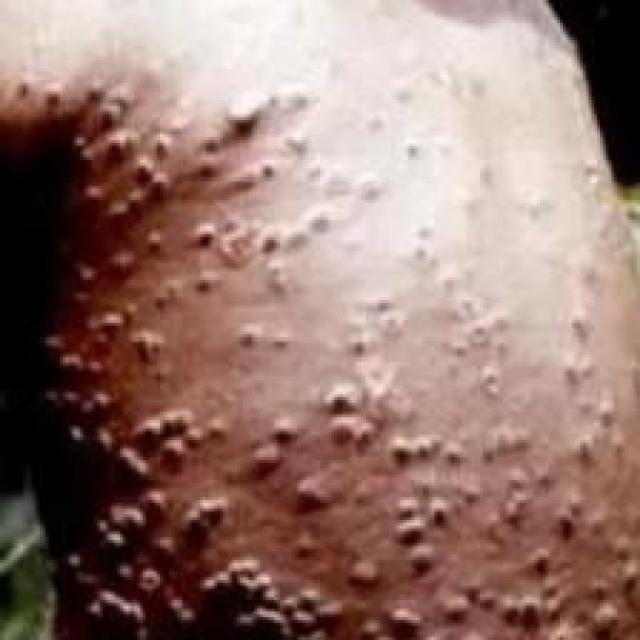monkeypox: (15, 16, 640, 640)
